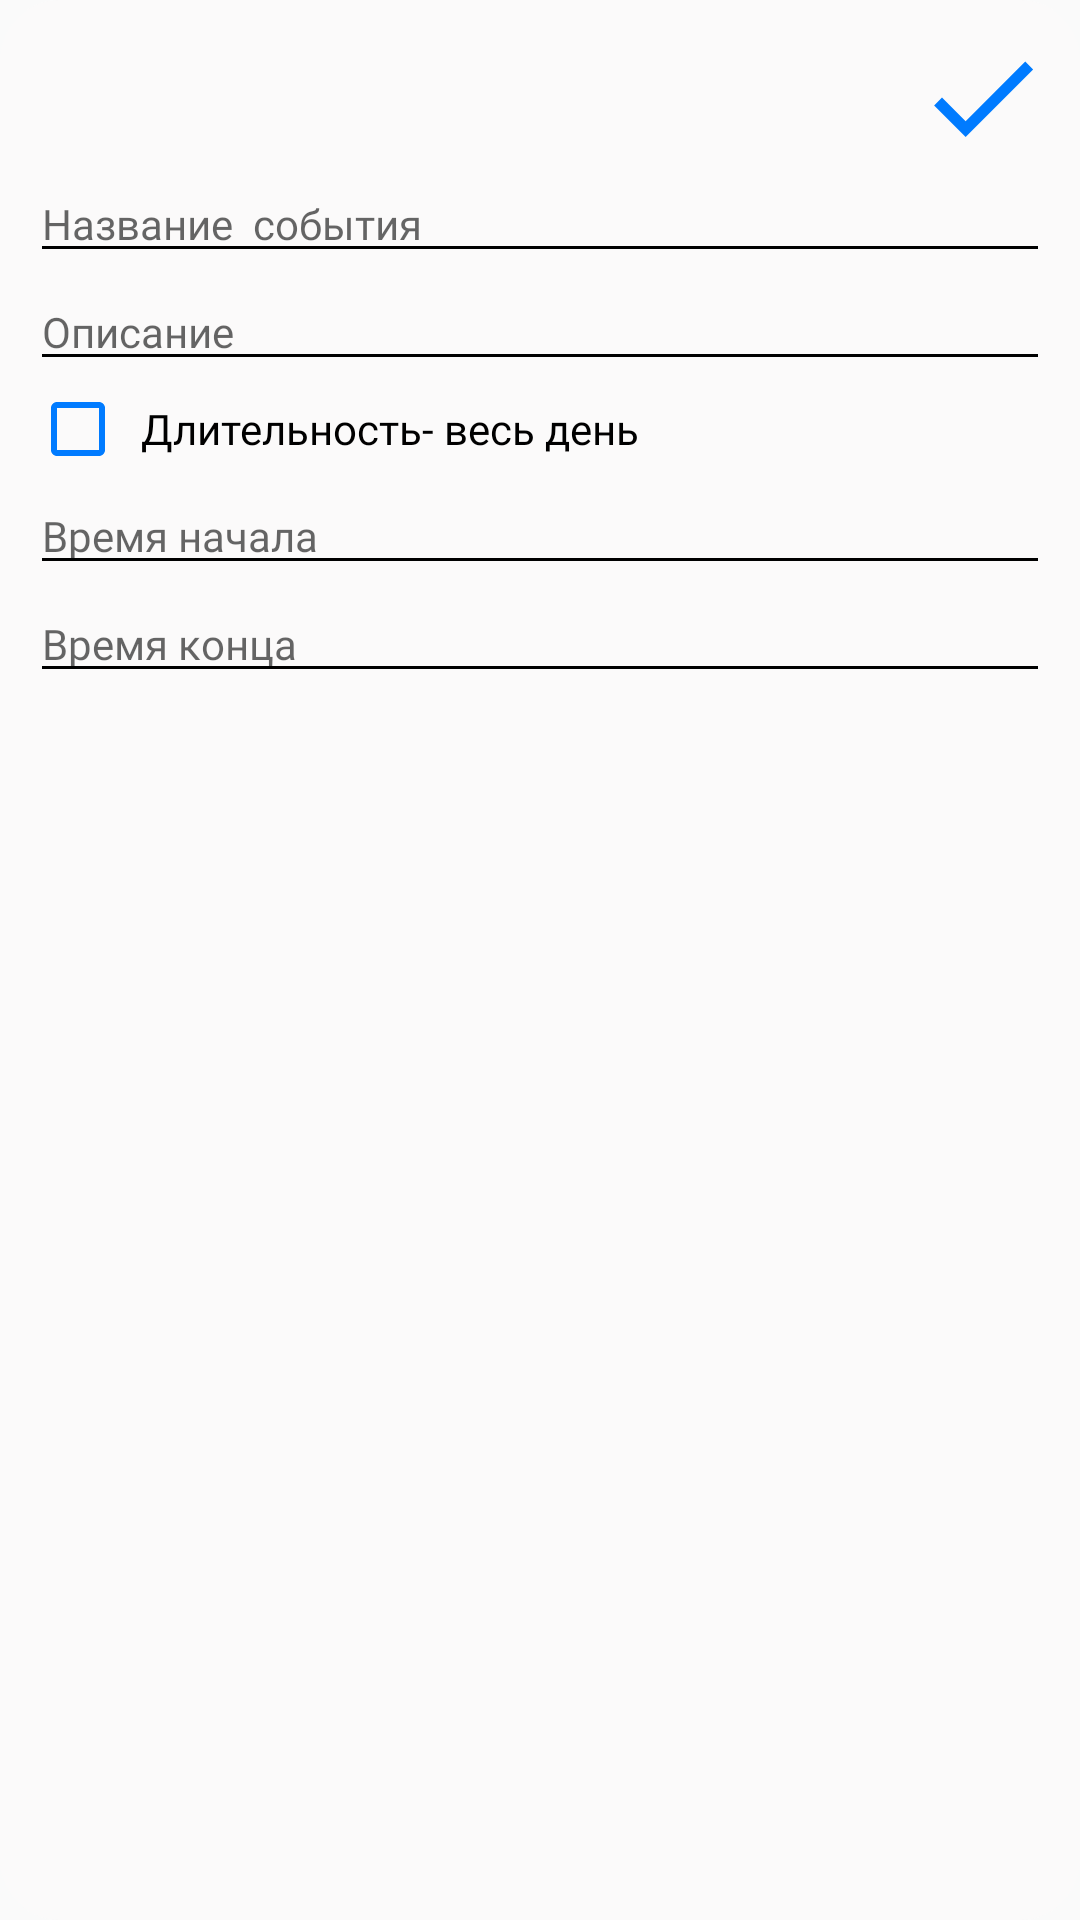

Locate icon controls on the screen. Image size 1080×1920, boxes as (x1, y1, x2, y2).
done: (934, 61, 1033, 137)
